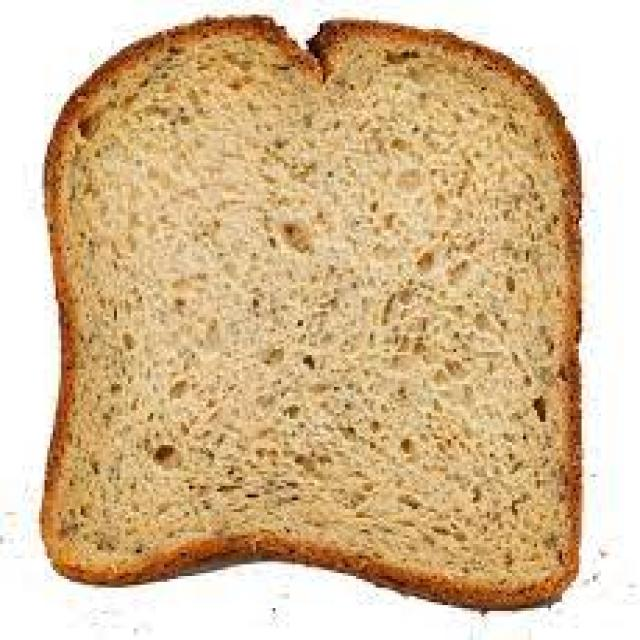Bread: (43, 17, 579, 607)
